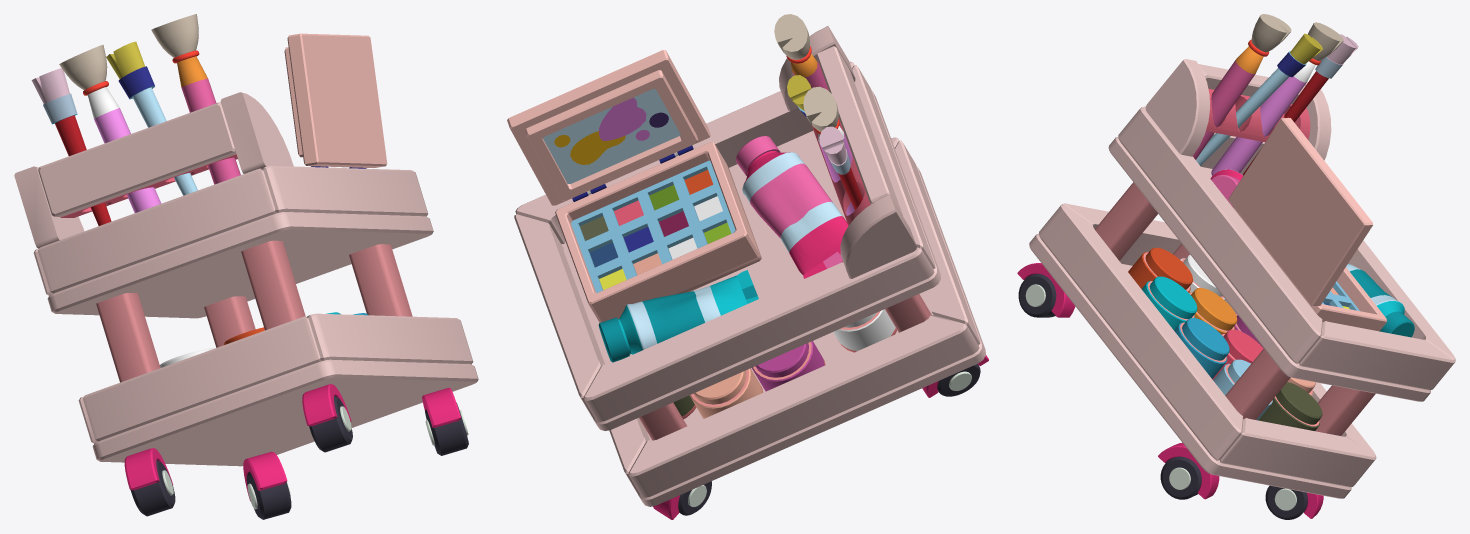
Rendered from lvl_17.fbx.
The picture shows the model from 3 angles, left to right: view 1: azimuth 30°, elevation 25°; view 2: azimuth 150°, elevation 25°; view 3: azimuth 270°, elevation 25°; orthographic projection. The views are drawn at different scales.
Visible parts, largest first — view 1: PaintingCart_038, PaintingCart_033, PaintingCart_041, PaintingCart_016, PaintingCart_036, PaintingCart_006, PaintingCart_035, PaintingCart_040, PaintingCart_032, PaintingCart_005, PaintingCart_013, PaintingCart_015 (+8 smaller); view 2: PaintingCart_039, PaintingCart_016, PaintingCart_034, PaintingCart_017, PaintingCart_033, PaintingCart_007, PaintingCart_042, PaintingCart_002, PaintingCart_038, PaintingCart_035, PaintingCart_020, PaintingCart_006 (+18 smaller); view 3: PaintingCart_016, PaintingCart_040, PaintingCart_035, PaintingCart_005, PaintingCart_042, PaintingCart_037, PaintingCart_033, PaintingCart_038, PaintingCart_032, PaintingCart_004, PaintingCart_013, PaintingCart_009 (+23 smaller).
Part boxes in pixels (x1,y1,x2,y2): PaintingCart_038: (92, 359, 478, 466); PaintingCart_033: (47, 212, 433, 318); PaintingCart_041: (83, 316, 320, 441); PaintingCart_016: (284, 33, 387, 167); PaintingCart_036: (38, 168, 275, 293); PaintingCart_006: (38, 102, 236, 216); PaintingCart_035: (261, 165, 428, 216); PaintingCart_040: (306, 313, 473, 364); PaintingCart_032: (31, 45, 164, 225); PaintingCart_005: (106, 14, 240, 195); PaintingCart_013: (241, 240, 305, 330); PaintingCart_015: (96, 293, 160, 382); PaintingCart_039: (628, 315, 979, 497); PaintingCart_016: (507, 50, 710, 205); PaintingCart_034: (583, 247, 934, 421); PaintingCart_017: (571, 160, 735, 292); PaintingCart_033: (561, 90, 940, 430); PaintingCart_007: (735, 136, 848, 278); PaintingCart_042: (514, 214, 604, 418); PaintingCart_002: (598, 270, 758, 362); PaintingCart_038: (638, 165, 985, 506); PaintingCart_035: (515, 61, 854, 243); PaintingCart_020: (590, 231, 758, 322); PaintingCart_006: (816, 46, 902, 215); PaintingCart_016: (1228, 117, 1372, 305); PaintingCart_040: (1038, 205, 1243, 460); PaintingCart_035: (1118, 108, 1322, 363); PaintingCart_005: (1192, 14, 1322, 165); PaintingCart_042: (1299, 321, 1454, 390); PaintingCart_037: (1220, 418, 1374, 487); PaintingCart_033: (1108, 137, 1430, 401); PaintingCart_038: (1029, 234, 1351, 498); PaintingCart_032: (1211, 22, 1358, 175); PaintingCart_004: (1145, 59, 1209, 156); PaintingCart_013: (1095, 182, 1157, 260); PaintingCart_009: (1225, 348, 1290, 419).
Size of the model in its own units: 11.03 by 13.92 by 12.01.
